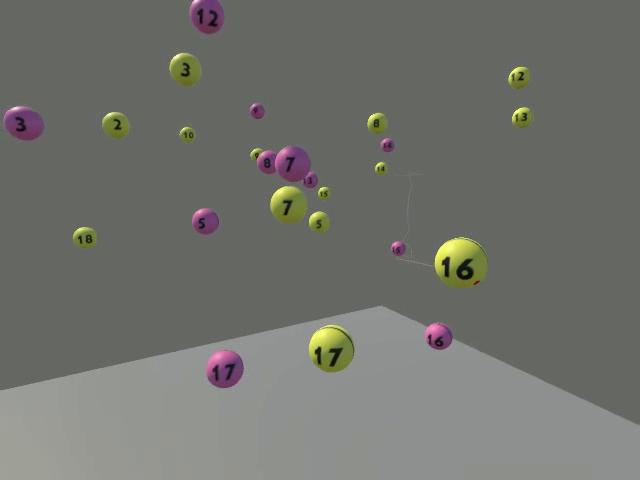ball_02_yellow: (101, 111, 129, 138)
ball_03_pink: (3, 105, 44, 140)
ball_03_yellow: (168, 52, 201, 86)
ball_05_pink: (191, 207, 219, 234)
ball_05_yellow: (309, 211, 329, 232)
ball_07_pink: (274, 145, 310, 182)
ball_07_yellow: (270, 186, 306, 223)
ball_08_pink: (256, 150, 276, 174)
ball_08_yellow: (366, 112, 387, 134)
ball_09_pink: (249, 102, 264, 119)
ball_09_yellow: (249, 147, 262, 160)
ball_10_yellow: (178, 126, 195, 142)
ball_12_pink: (188, 0, 224, 34)
ball_12_yellow: (508, 67, 531, 89)
ball_13_pink: (302, 171, 318, 187)
ball_13_yellow: (511, 106, 533, 127)
ball_14_pink: (380, 137, 394, 152)
ball_14_yellow: (374, 161, 387, 175)
ball_15_pink: (391, 241, 405, 256)
ball_15_yellow: (317, 186, 330, 199)
ball_16_pink: (424, 322, 452, 349)
ball_16_yellow: (433, 236, 487, 288)
ball_17_pink: (205, 349, 243, 387)
ball_17_yellow: (308, 324, 355, 372)
ball_18_yellow: (73, 227, 97, 248)
